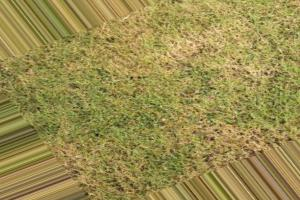patch: (121, 32, 193, 75), (205, 30, 263, 68), (188, 114, 217, 140), (73, 151, 97, 172), (89, 47, 108, 61)
